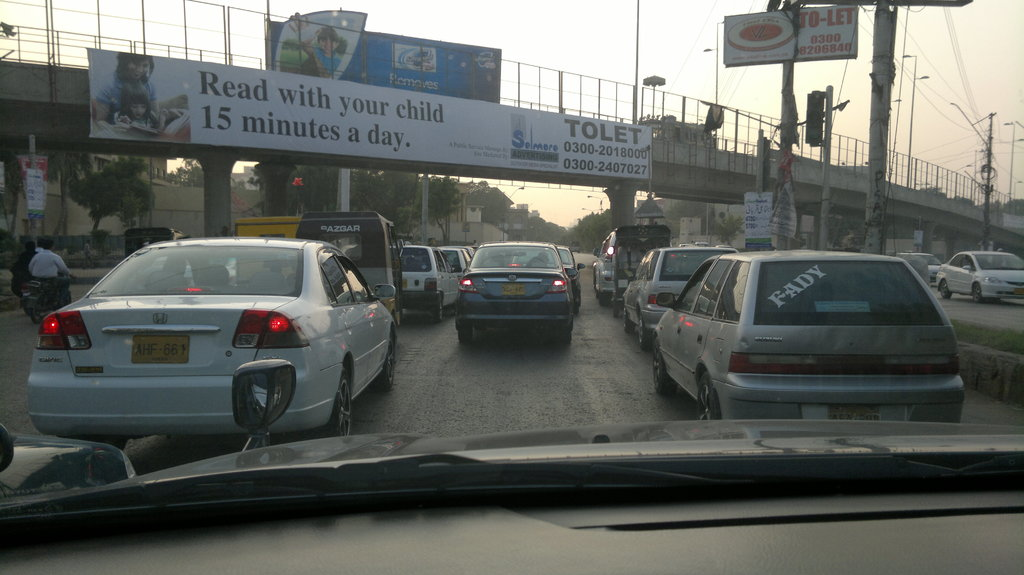license plate: (126, 330, 192, 364)
